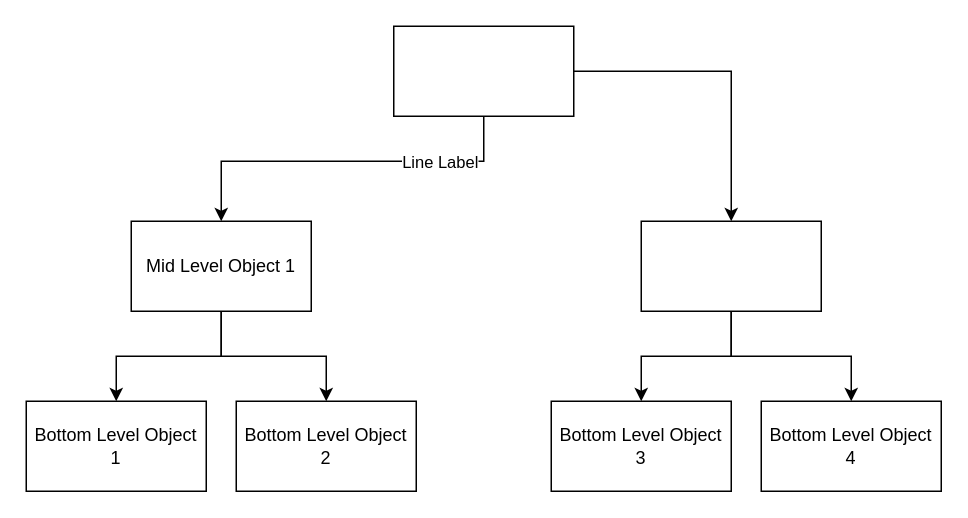
Image size: 968x518. Some labels were removed from this diagram. The centre of each missing label's shape, as x and y in pixels:
"Mid Level Object 2" belongs at (x=730, y=265).
"Top Level Object" belongs at (x=483, y=70).
